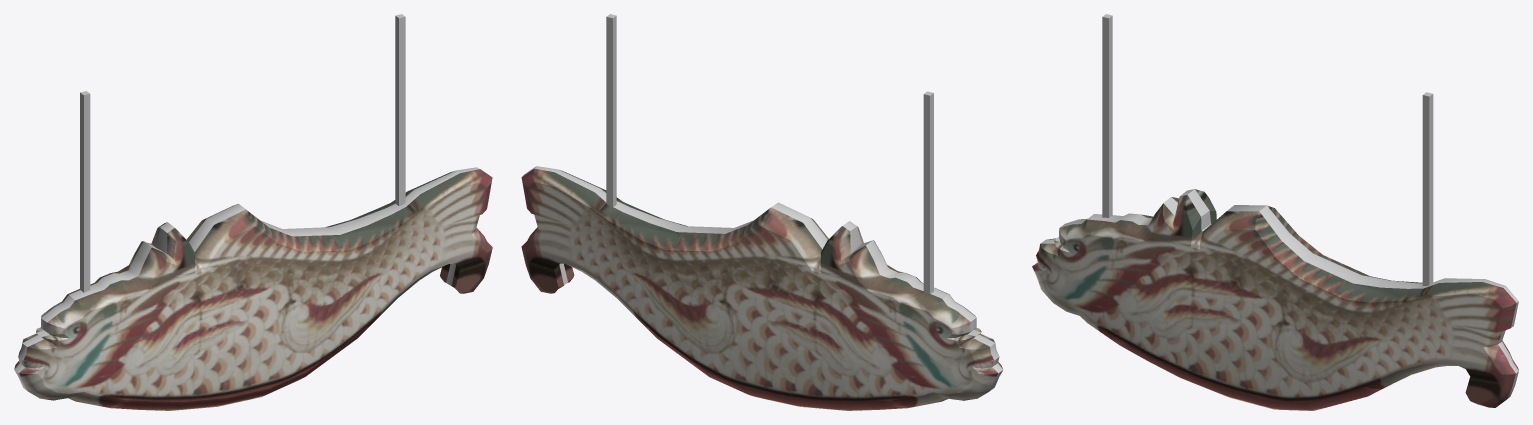
File: SM_M_Fish.fbx
The picture shows the model from 3 angles, left to right: view 1: azimuth 30°, elevation 25°; view 2: azimuth 150°, elevation 25°; view 3: azimuth 330°, elevation 25°; orthographic projection.
Parts seen in each view (by area): view 1: SM_M_Fish_LOD0; view 2: SM_M_Fish_LOD0; view 3: SM_M_Fish_LOD0.
Boxes of the visible parts, x1,y1,x2,y2 form: SM_M_Fish_LOD0: (14, 14, 492, 410); SM_M_Fish_LOD0: (521, 14, 1003, 410); SM_M_Fish_LOD0: (1032, 14, 1518, 410).
Size of the model in its own units: 169 by 17.93 by 116.
